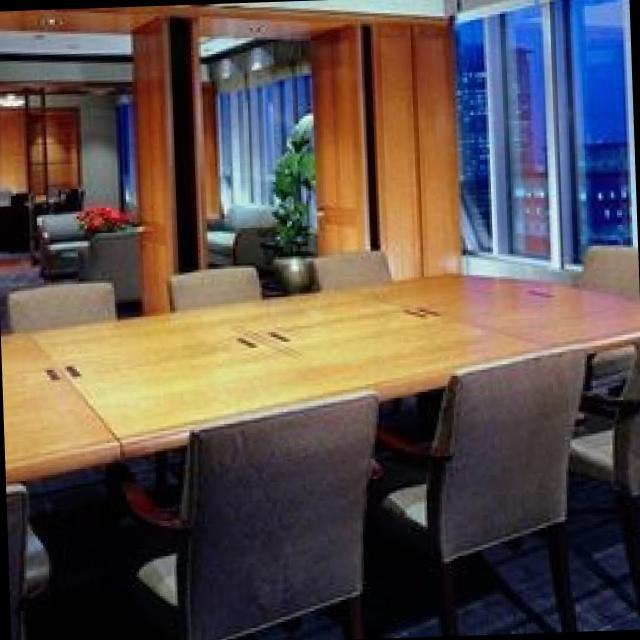2001: (462, 0, 635, 271), (220, 75, 316, 211)
2030: (315, 27, 462, 277), (132, 16, 209, 314)
armchair crop: (88, 224, 144, 304), (33, 207, 98, 270)
bouquet: (81, 202, 136, 236)
chair: (9, 275, 117, 328), (171, 262, 262, 300), (315, 245, 394, 285), (584, 241, 639, 294)
chair -occluded-: (129, 388, 380, 632), (389, 351, 584, 628)
door bars: (374, 18, 471, 270), (312, 18, 375, 250), (135, 13, 174, 311)
plant -x: (269, 115, 315, 249)
sofa bed: (211, 195, 278, 267)
table -X: (3, 268, 640, 476)
